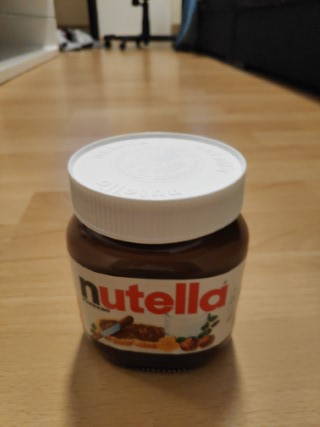nutella: (63, 128, 252, 375)
